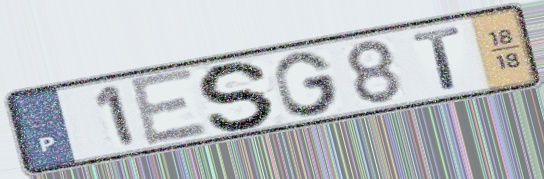1: (91, 82, 138, 148)
8: (341, 37, 407, 107)
E: (125, 66, 212, 150)
G: (271, 49, 343, 118)
S: (195, 58, 279, 132)
T: (409, 23, 466, 93)
